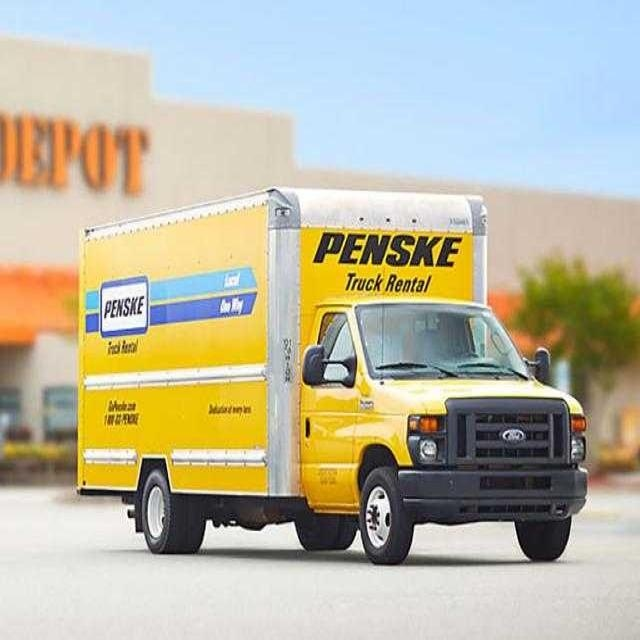Truck: (66, 180, 597, 572)
